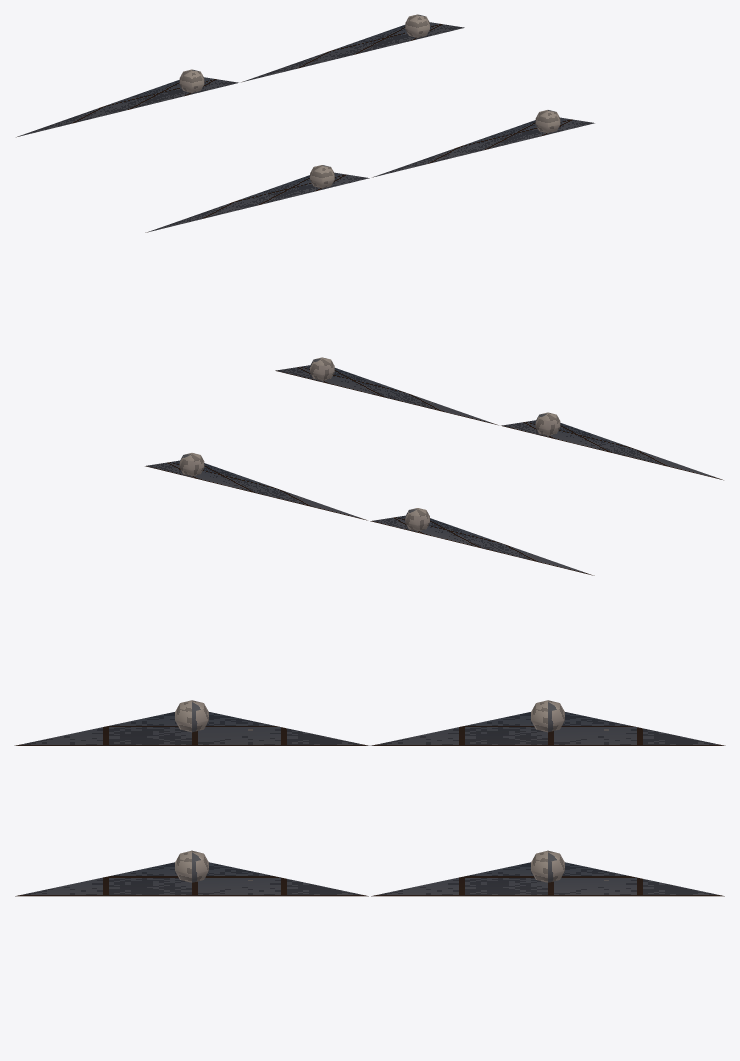
The model's file is dgn.ceiling__groin_2x2.glb.
3 views of the same model, one above another, from view 1: azimuth 30°, elevation 25°; view 2: azimuth 150°, elevation 25°; view 3: azimuth 270°, elevation 25° (orthographic). The views are drawn at different scales.
Parts seen in each view (by area): view 1: kit_shell_groin, kit_boss; view 2: kit_shell_groin, kit_boss; view 3: kit_shell_groin, kit_boss.
Part boxes in pixels (bbox=[...]): kit_shell_groin: bbox=[16, 22, 594, 232]; kit_boss: bbox=[179, 14, 560, 188]; kit_shell_groin: bbox=[145, 365, 723, 575]; kit_boss: bbox=[179, 357, 560, 531]; kit_shell_groin: bbox=[14, 712, 725, 896]; kit_boss: bbox=[175, 700, 564, 882].
Size of the model in its own units: 8 by 1.48 by 8.
2 materials, 2 textured.
